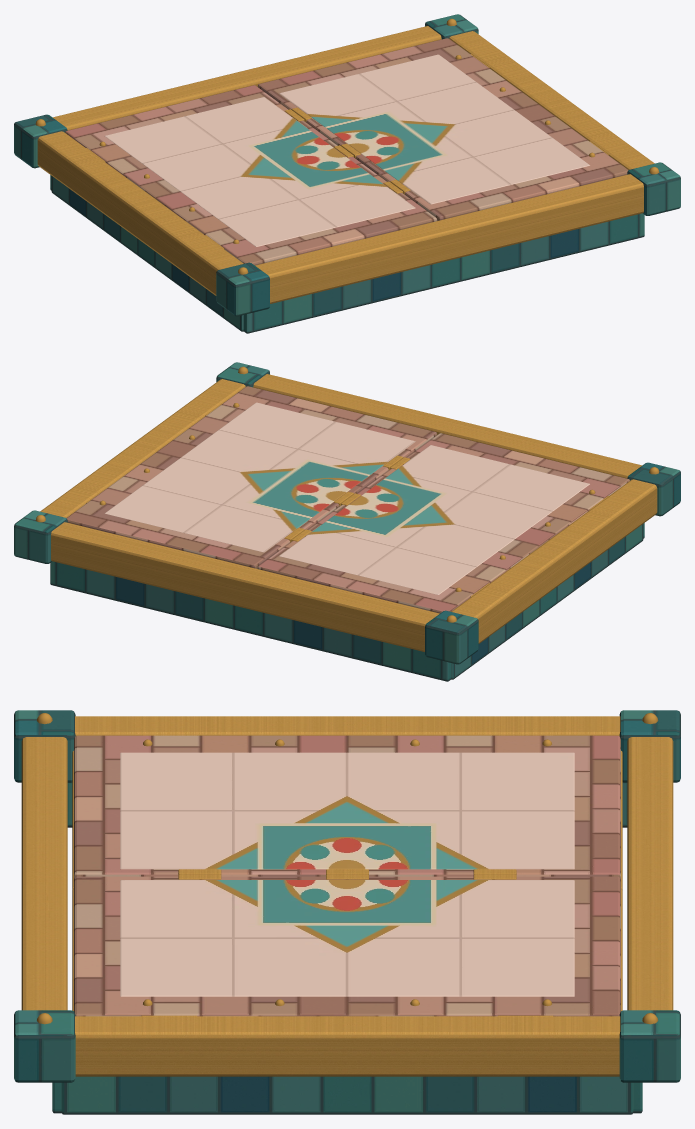
Rendered from act2_roof_hatch.glb.
3 views of the same model, one above another, from view 1: azimuth 30°, elevation 25°; view 2: azimuth 150°, elevation 25°; view 3: azimuth 270°, elevation 25° (orthographic). The views are drawn at different scales.
Parts seen in each view (by area): view 1: SM_Hatch_Frame, ANIM_Hatch_DoorR_Mesh, ANIM_Hatch_DoorL_Mesh; view 2: SM_Hatch_Frame, ANIM_Hatch_DoorR_Mesh, ANIM_Hatch_DoorL_Mesh; view 3: SM_Hatch_Frame, ANIM_Hatch_DoorL_Mesh, ANIM_Hatch_DoorR_Mesh.
Part boxes in pixels (left/top/right/bottom): SM_Hatch_Frame: left=14, top=14, right=680, bottom=333; ANIM_Hatch_DoorR_Mesh: left=257, top=38, right=628, bottom=220; ANIM_Hatch_DoorL_Mesh: left=65, top=85, right=437, bottom=265; SM_Hatch_Frame: left=14, top=362, right=680, bottom=681; ANIM_Hatch_DoorR_Mesh: left=66, top=386, right=437, bottom=568; ANIM_Hatch_DoorL_Mesh: left=257, top=433, right=629, bottom=613; SM_Hatch_Frame: left=14, top=710, right=680, bottom=1114; ANIM_Hatch_DoorL_Mesh: left=72, top=735, right=622, bottom=890; ANIM_Hatch_DoorR_Mesh: left=72, top=874, right=622, bottom=1016.
Bounding box in the file's own units: 2.51 × 0.3781 × 2.17.
4 materials, 4 textured.
